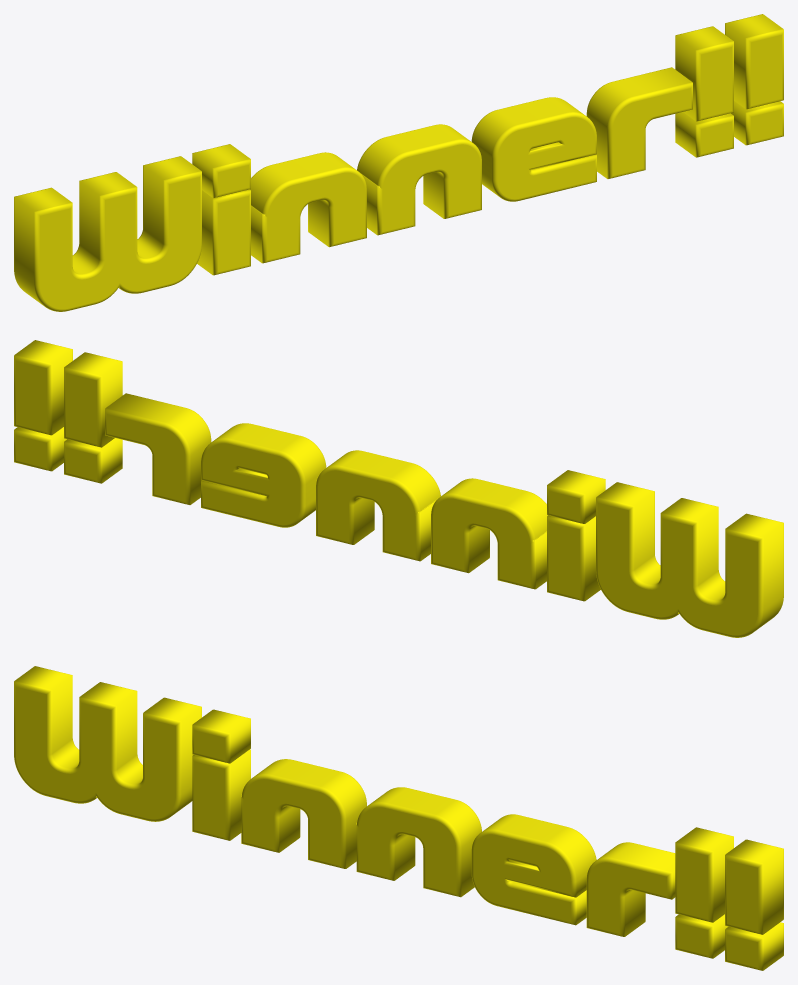
The model's file is winnder_scene.glb.
3 views of the same model, one above another, from view 1: azimuth 30°, elevation 25°; view 2: azimuth 150°, elevation 25°; view 3: azimuth 330°, elevation 25° (orthographic).
Visible parts, largest first — view 1: start; view 2: start; view 3: start.
Part boxes in pixels (x1=…): start: x1=14, y1=14, x2=783, y2=311; start: x1=14, y1=340, x2=783, y2=637; start: x1=14, y1=666, x2=783, y2=970.
Size of the model in its own units: 2.25 by 0.3079 by 0.1247.
